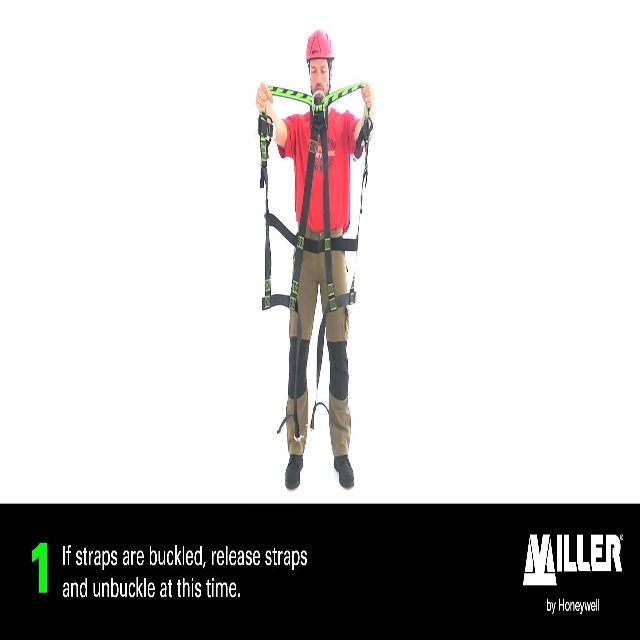Arnes_seguridad: (251, 74, 372, 451)
